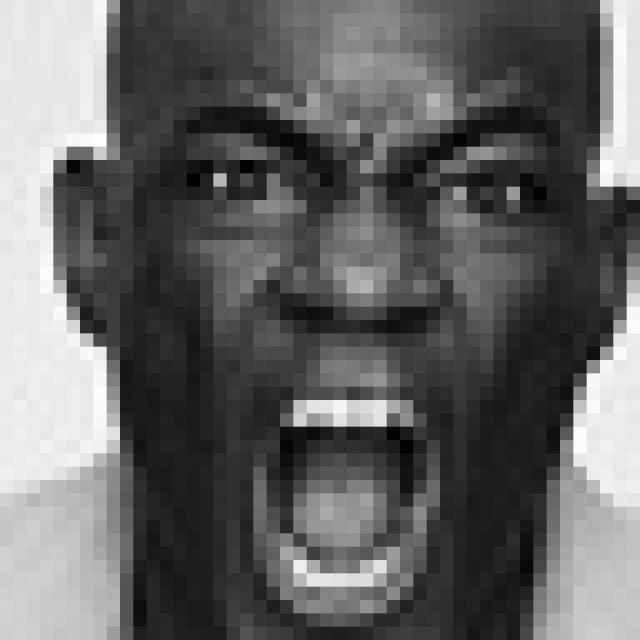angry: (167, 98, 562, 640)
